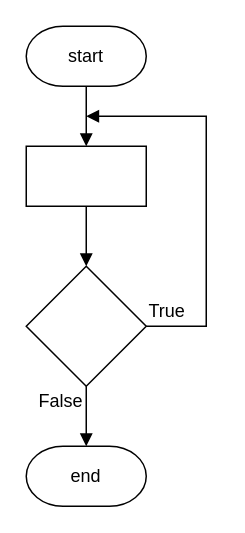
This 245x533 diagram has some shape labels left out. Here are the shapes that lost their labels. From the top down, the box of each, then its label:
(25, 145, 146, 206): do something
(25, 265, 146, 386): test
